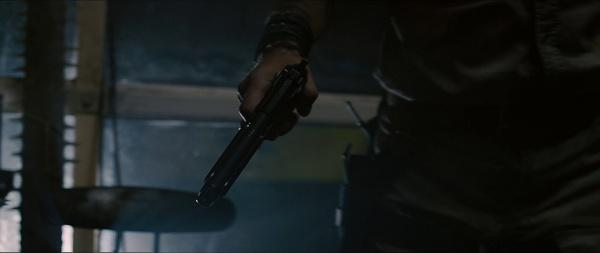Gun: (195, 57, 311, 211)
